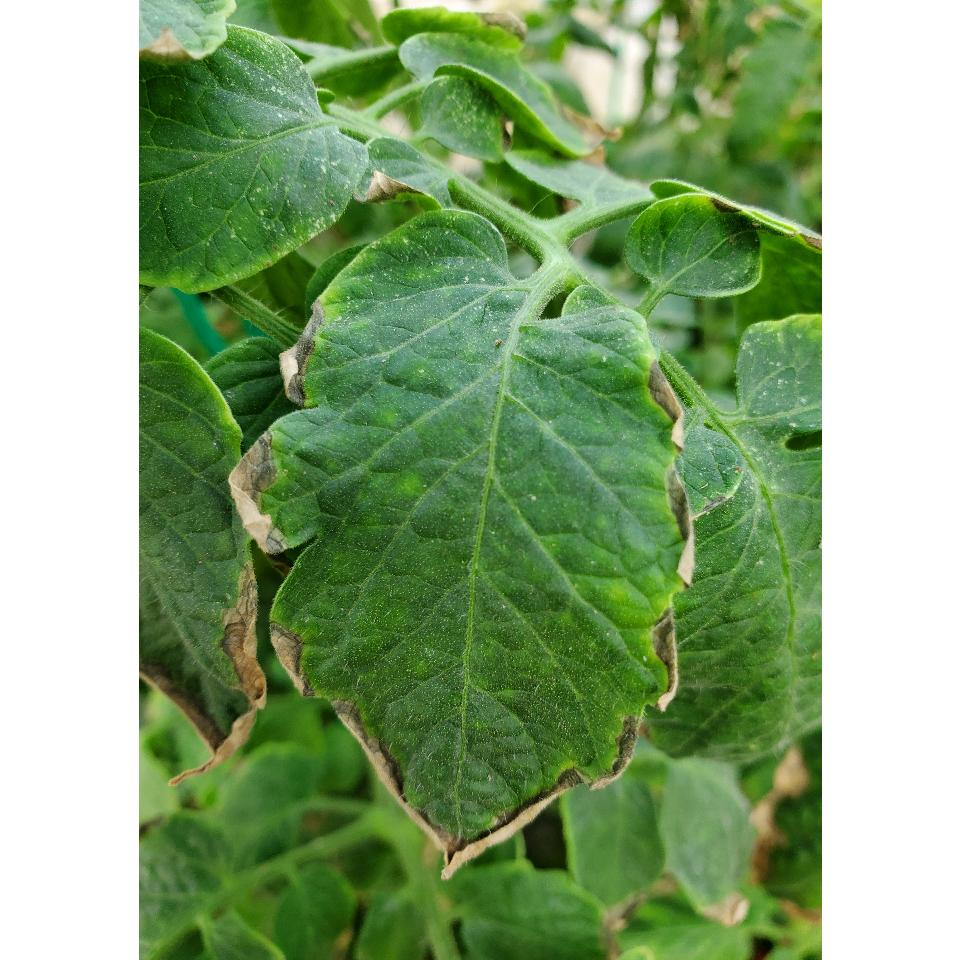tomato_bacterial_blight: (222, 226, 700, 876)
